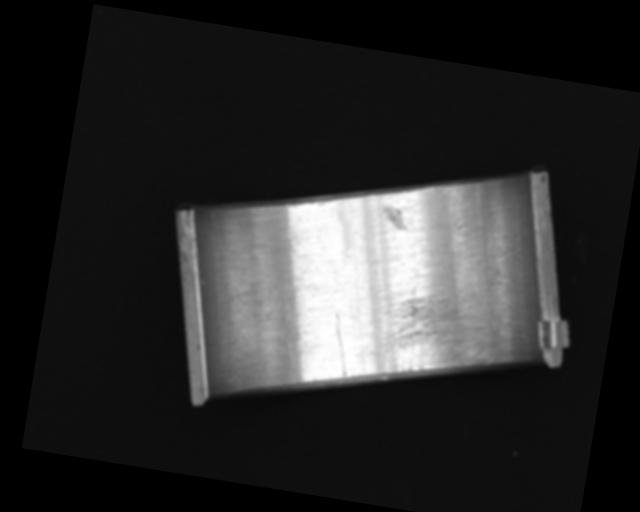bruise: (380, 205, 410, 230)
nick: (197, 208, 257, 305), (324, 312, 356, 377)
scratch: (372, 282, 502, 395)
